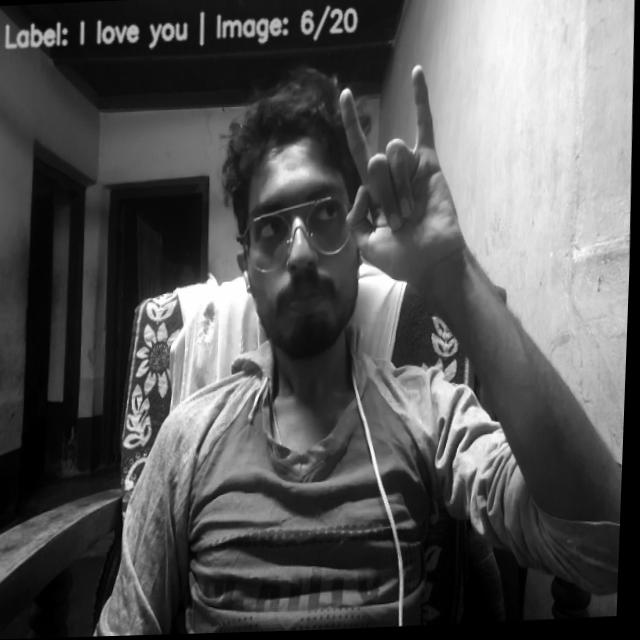I love you: (337, 63, 473, 299)
